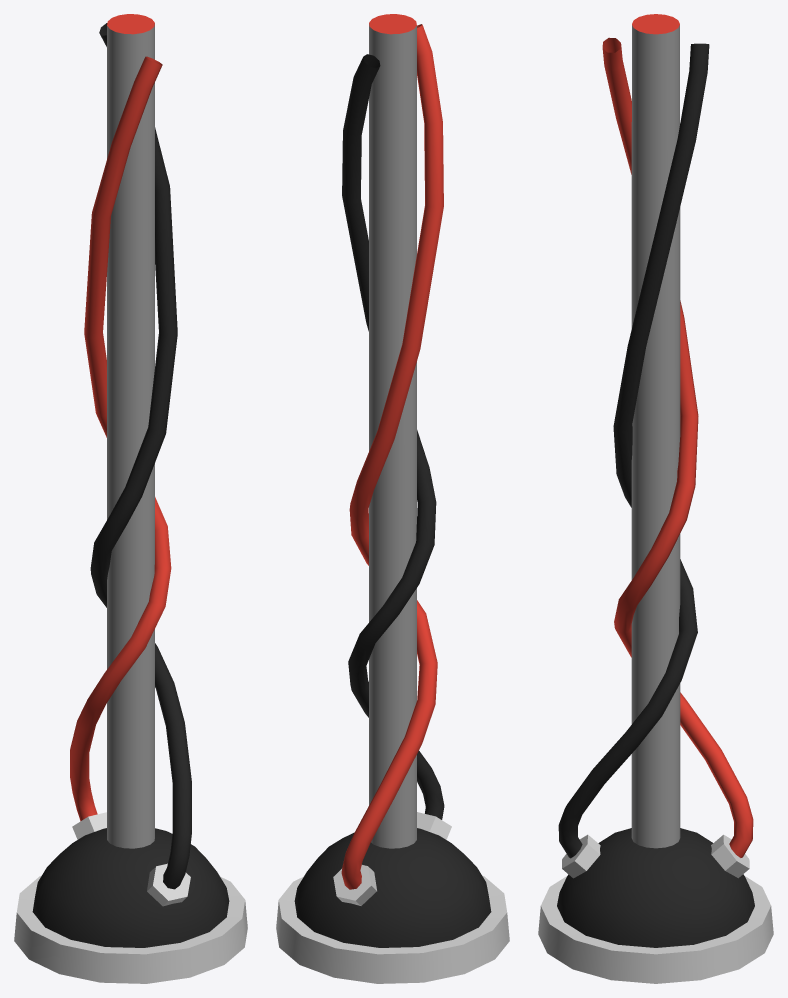
The model's file is piePressTop.fbx.
The picture shows the model from 3 angles, left to right: view 1: azimuth 30°, elevation 25°; view 2: azimuth 150°, elevation 25°; view 3: azimuth 270°, elevation 25°; orthographic projection.
Visible parts, largest first — view 1: Sphere; view 2: Sphere; view 3: Sphere.
Part boxes in pixels (x1,y1,x2,y2): Sphere: (14,14,247,983); Sphere: (276,14,509,983); Sphere: (538,14,773,983).
Bounding box in the file's own units: 121 × 517 × 121.
